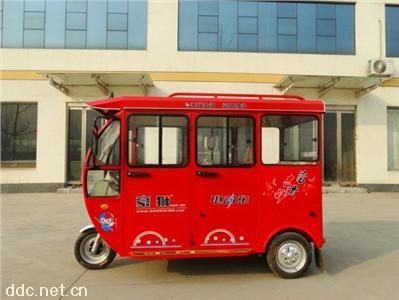MNV: (73, 92, 327, 277)
